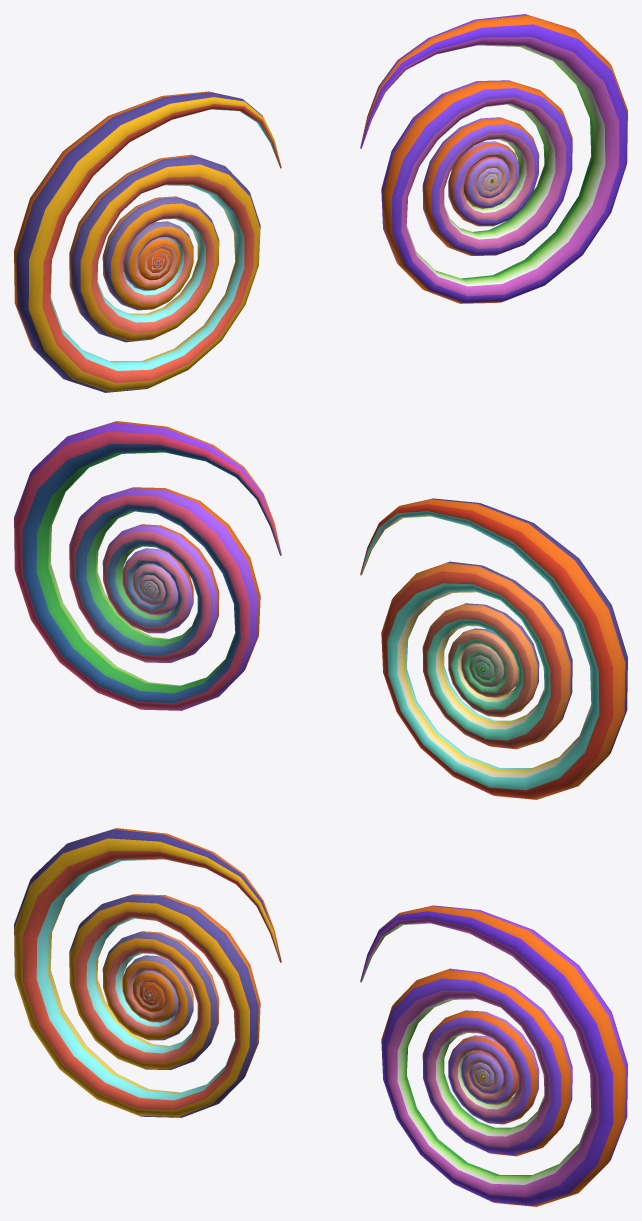
File: Spiral.fbx
3 renders of one model, top to bottom at view 1: azimuth 30°, elevation 25°; view 2: azimuth 150°, elevation 25°; view 3: azimuth 330°, elevation 25°, orthographic.
Parts seen in each view (by area): view 1: Spiral.001, Spiral; view 2: Spiral.001, Spiral; view 3: Spiral, Spiral.001.
Boxes of the visible parts, x1,y1,x2,y2 form: Spiral.001: [14, 91, 281, 392]; Spiral: [360, 14, 627, 303]; Spiral.001: [360, 498, 627, 799]; Spiral: [14, 421, 281, 710]; Spiral: [360, 905, 627, 1206]; Spiral.001: [14, 828, 281, 1117].
Size of the model in its own units: 6205 by 2786 by 381.
